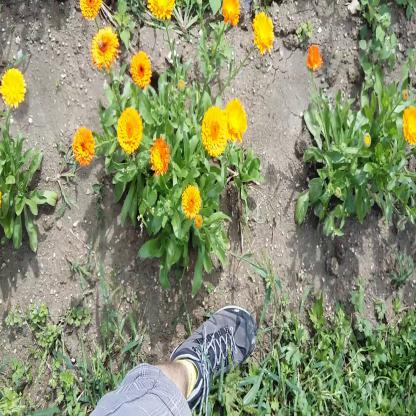marigold: (201, 106, 226, 156), (116, 107, 144, 151), (128, 50, 153, 88), (224, 97, 246, 140), (93, 27, 116, 67), (0, 69, 24, 107), (149, 134, 171, 174), (71, 125, 93, 163), (252, 13, 272, 51), (179, 185, 200, 218), (402, 105, 416, 148), (221, 0, 240, 27), (79, 0, 102, 21)
